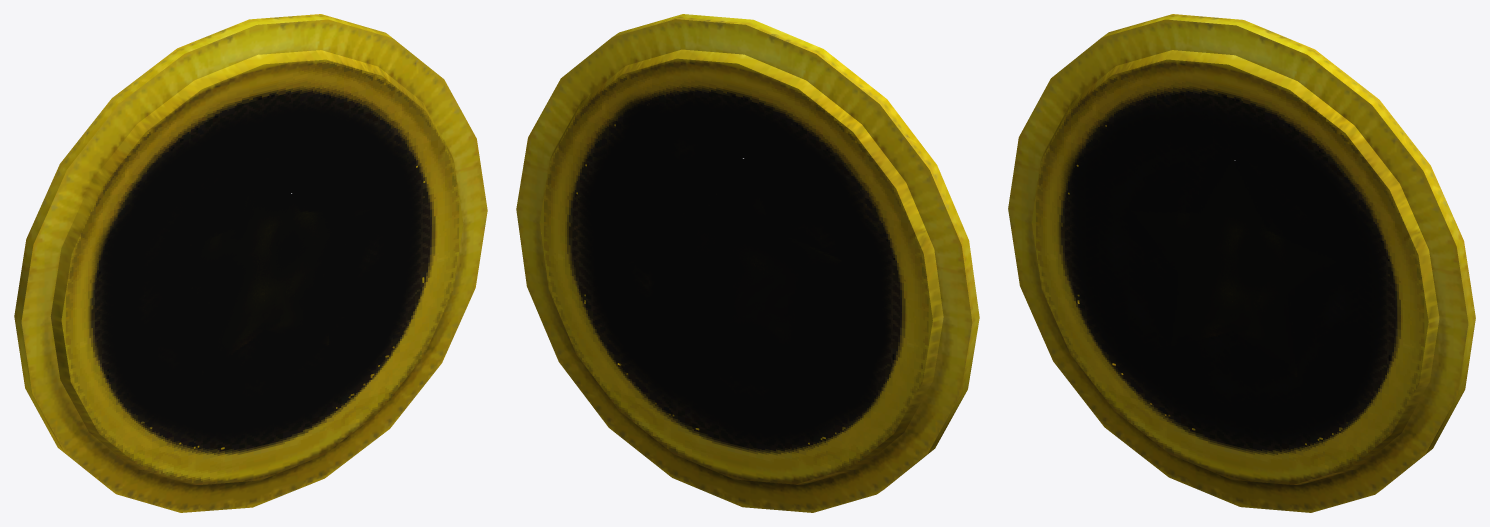
The model's file is Coin.glb.
The picture shows the model from 3 angles, left to right: view 1: azimuth 30°, elevation 25°; view 2: azimuth 150°, elevation 25°; view 3: azimuth 330°, elevation 25°; orthographic projection.
Visible parts, largest first — view 1: node_id5; view 2: node_id5; view 3: node_id5.
Part boxes in pixels (<box>): node_id5: <box>14,14,487,512</box>; node_id5: <box>516,14,979,512</box>; node_id5: <box>1008,14,1475,512</box>.
Bounding box in the file's own units: 0.5121 × 0.5121 × 0.052.
1 material, 1 textured.
